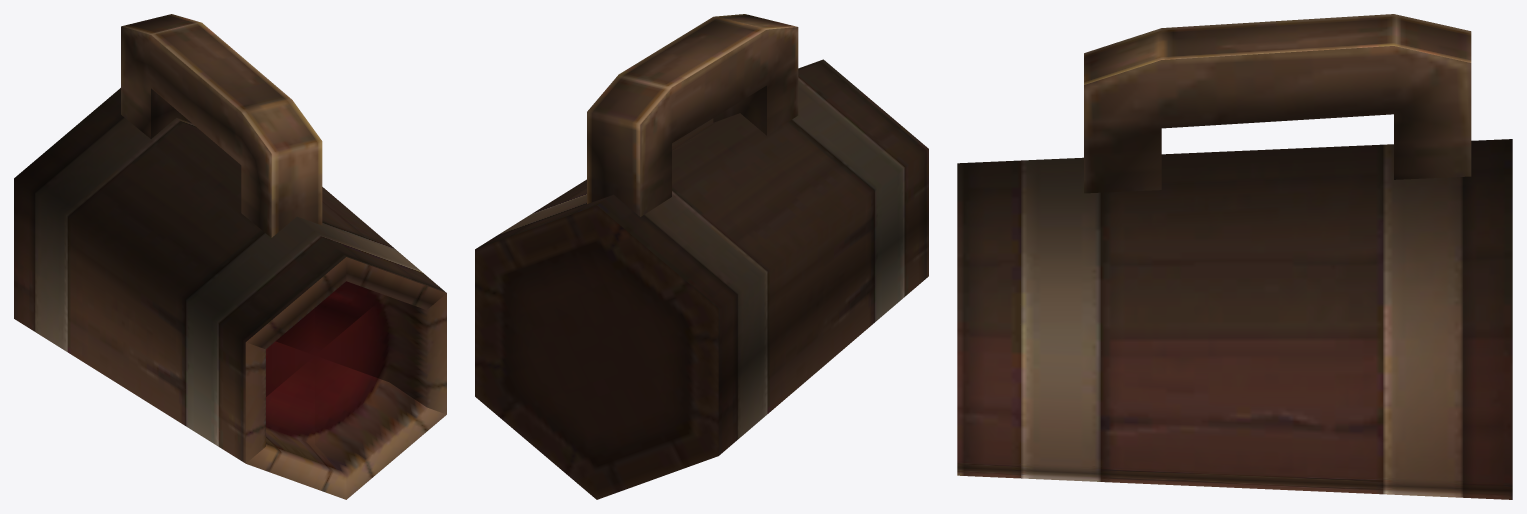
The picture shows the model from 3 angles, left to right: view 1: azimuth 30°, elevation 25°; view 2: azimuth 150°, elevation 25°; view 3: azimuth 270°, elevation 25°; orthographic projection. The views are drawn at different scales.
Visible parts, largest first — view 1: model_opq; view 2: model_opq; view 3: model_opq.
Part boxes in pixels (x1,y1,x2,y2): model_opq: [14, 14, 446, 499]; model_opq: [475, 14, 928, 499]; model_opq: [957, 14, 1512, 499].
Size of the model in its own units: 0.1422 by 0.2137 by 0.229.
